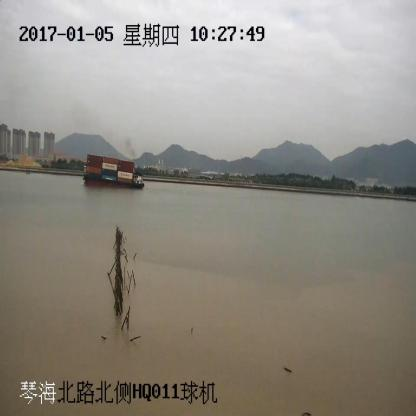Container Ship: (83, 154, 144, 188)
